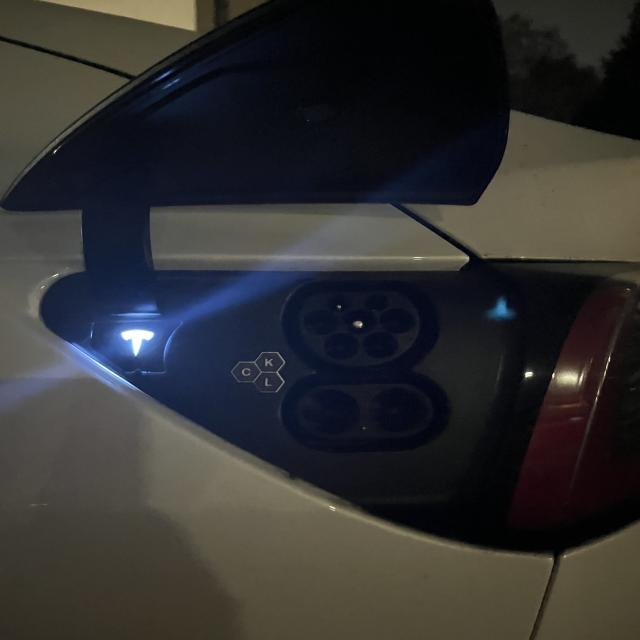inlet: (299, 291, 419, 366)
inlet-above-left: (327, 295, 352, 312)
inlet-above-right: (365, 294, 389, 310)
inlet-below-left: (325, 334, 359, 359)
inlet-below-right: (363, 332, 396, 358)
inlet-circle: (340, 309, 375, 334)
inlet-circle-left: (303, 309, 338, 335)
inlet-circle-right: (380, 308, 414, 333)
inlet-minus: (368, 387, 427, 432)
inlet-plus: (303, 389, 360, 434)
